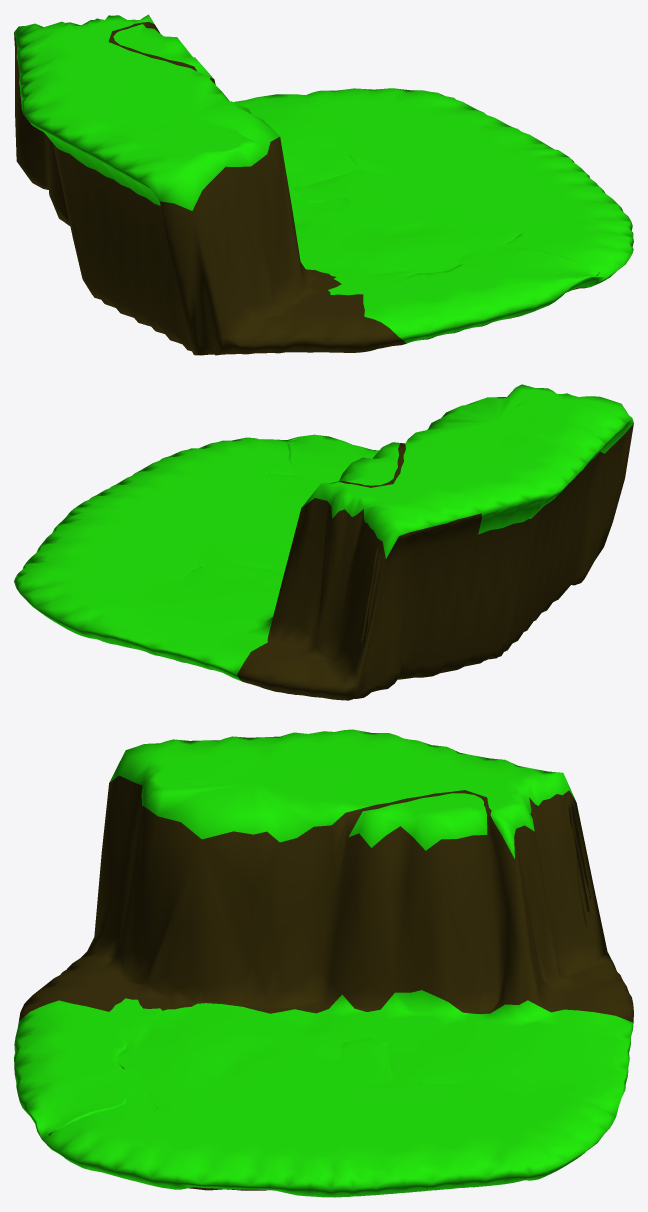
The model's file is Grass island.fbx.
3 renders of one model, top to bottom at view 1: azimuth 30°, elevation 25°; view 2: azimuth 150°, elevation 25°; view 3: azimuth 270°, elevation 25°, orthographic. The views are drawn at different scales.
Parts seen in each view (by area): view 1: polySurface4; view 2: polySurface4; view 3: polySurface4.
Part boxes in pixels (x1,y1,x2,y2): polySurface4: (14, 14, 633, 355); polySurface4: (14, 384, 633, 700); polySurface4: (14, 729, 633, 1197).
Bounding box in the file's own units: 7.58 × 3.75 × 6.99.
